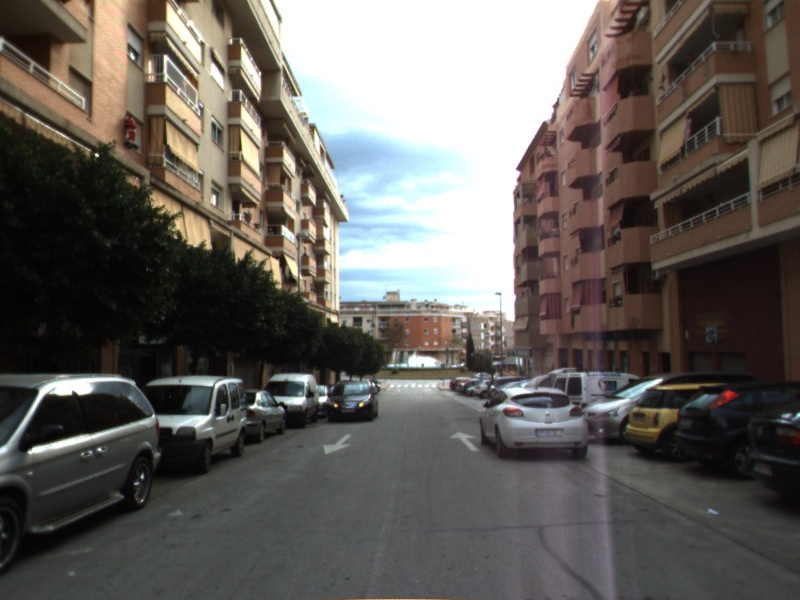STRAIGHT: (448, 429, 482, 453)
